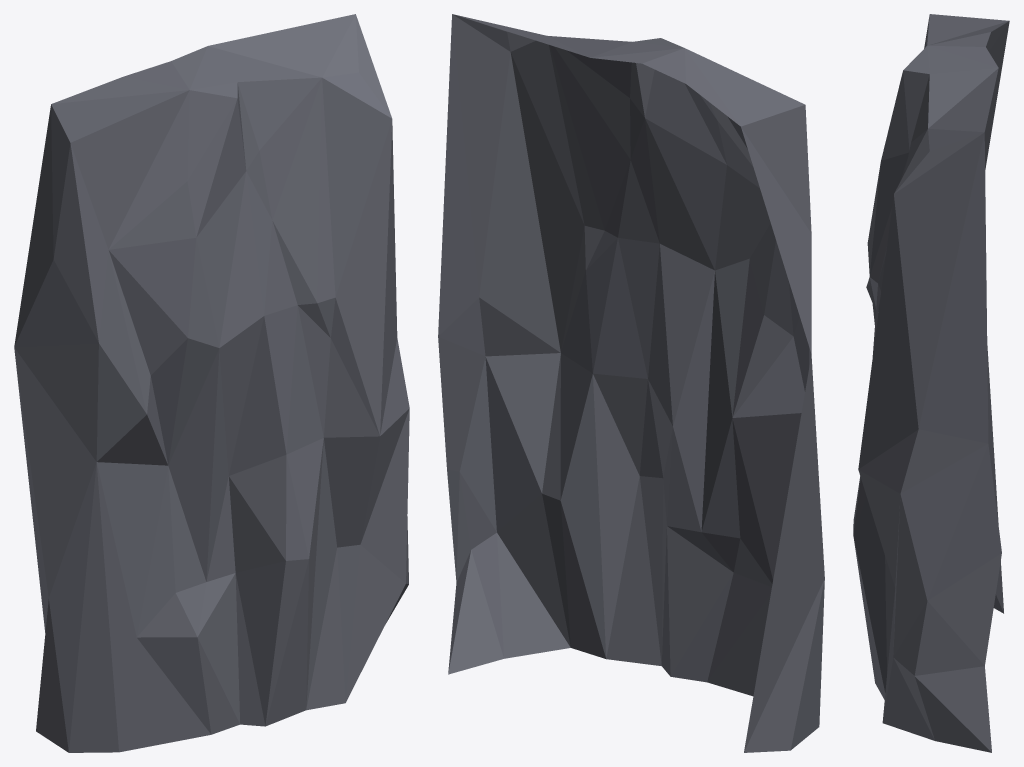
Rendered from Cave_02.FBX.
The picture shows the model from 3 angles, left to right: view 1: azimuth 30°, elevation 25°; view 2: azimuth 150°, elevation 25°; view 3: azimuth 270°, elevation 25°; orthographic projection. The views are drawn at different scales.
Parts seen in each view (by area): view 1: Cave_02; view 2: Cave_02; view 3: Cave_02.
Boxes of the visible parts, x1,y1,x2,y2 form: Cave_02: (14, 14, 409, 752); Cave_02: (438, 14, 824, 752); Cave_02: (853, 14, 1009, 752).
Bounding box in the file's own units: 33.63 × 55.75 × 12.74.
